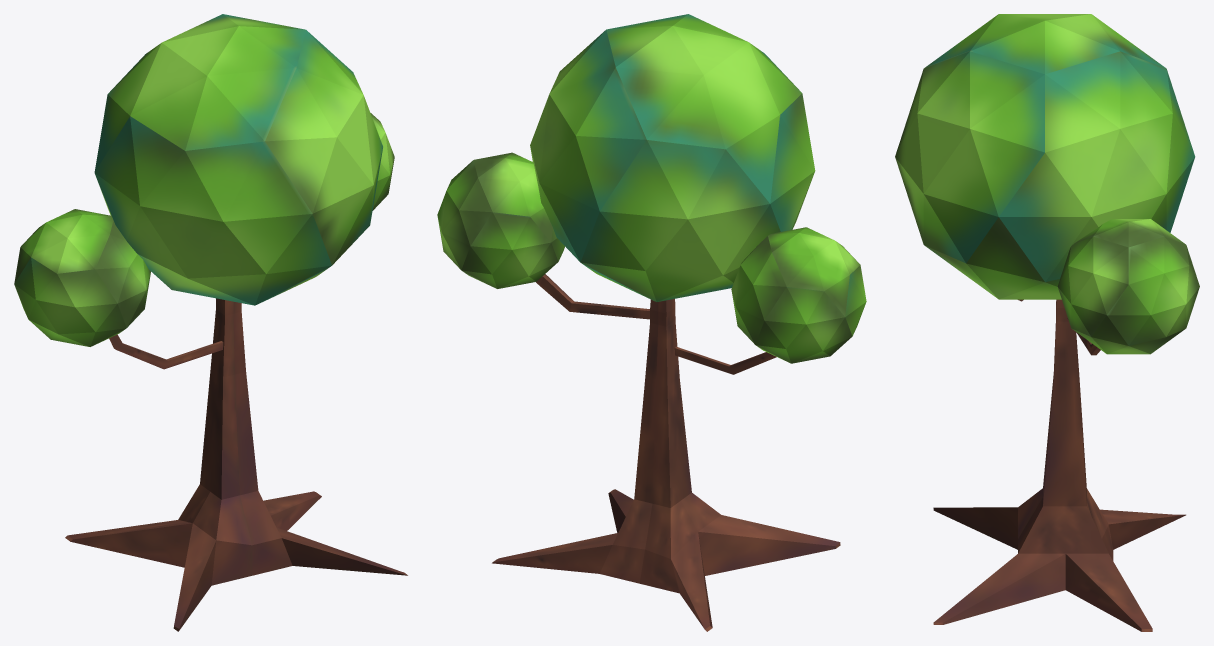
The model's file is Tree1.fbx.
3 renders of one model, left to right at view 1: azimuth 30°, elevation 25°; view 2: azimuth 150°, elevation 25°; view 3: azimuth 270°, elevation 25°, orthographic. The views are drawn at different scales.
Parts seen in each view (by area): view 1: Cube.001, Cube; view 2: Cube.001, Cube; view 3: Cube.001, Cube.
Boxes of the visible parts, box(x1,y1,x2,y2) form: Cube.001: box(14, 14, 394, 346); Cube: box(65, 298, 407, 631); Cube.001: box(437, 14, 866, 363); Cube: box(492, 274, 840, 631); Cube.001: box(895, 14, 1199, 354); Cube: box(933, 299, 1185, 631).
Bounding box in the file's own units: 953 × 1274 × 641.
